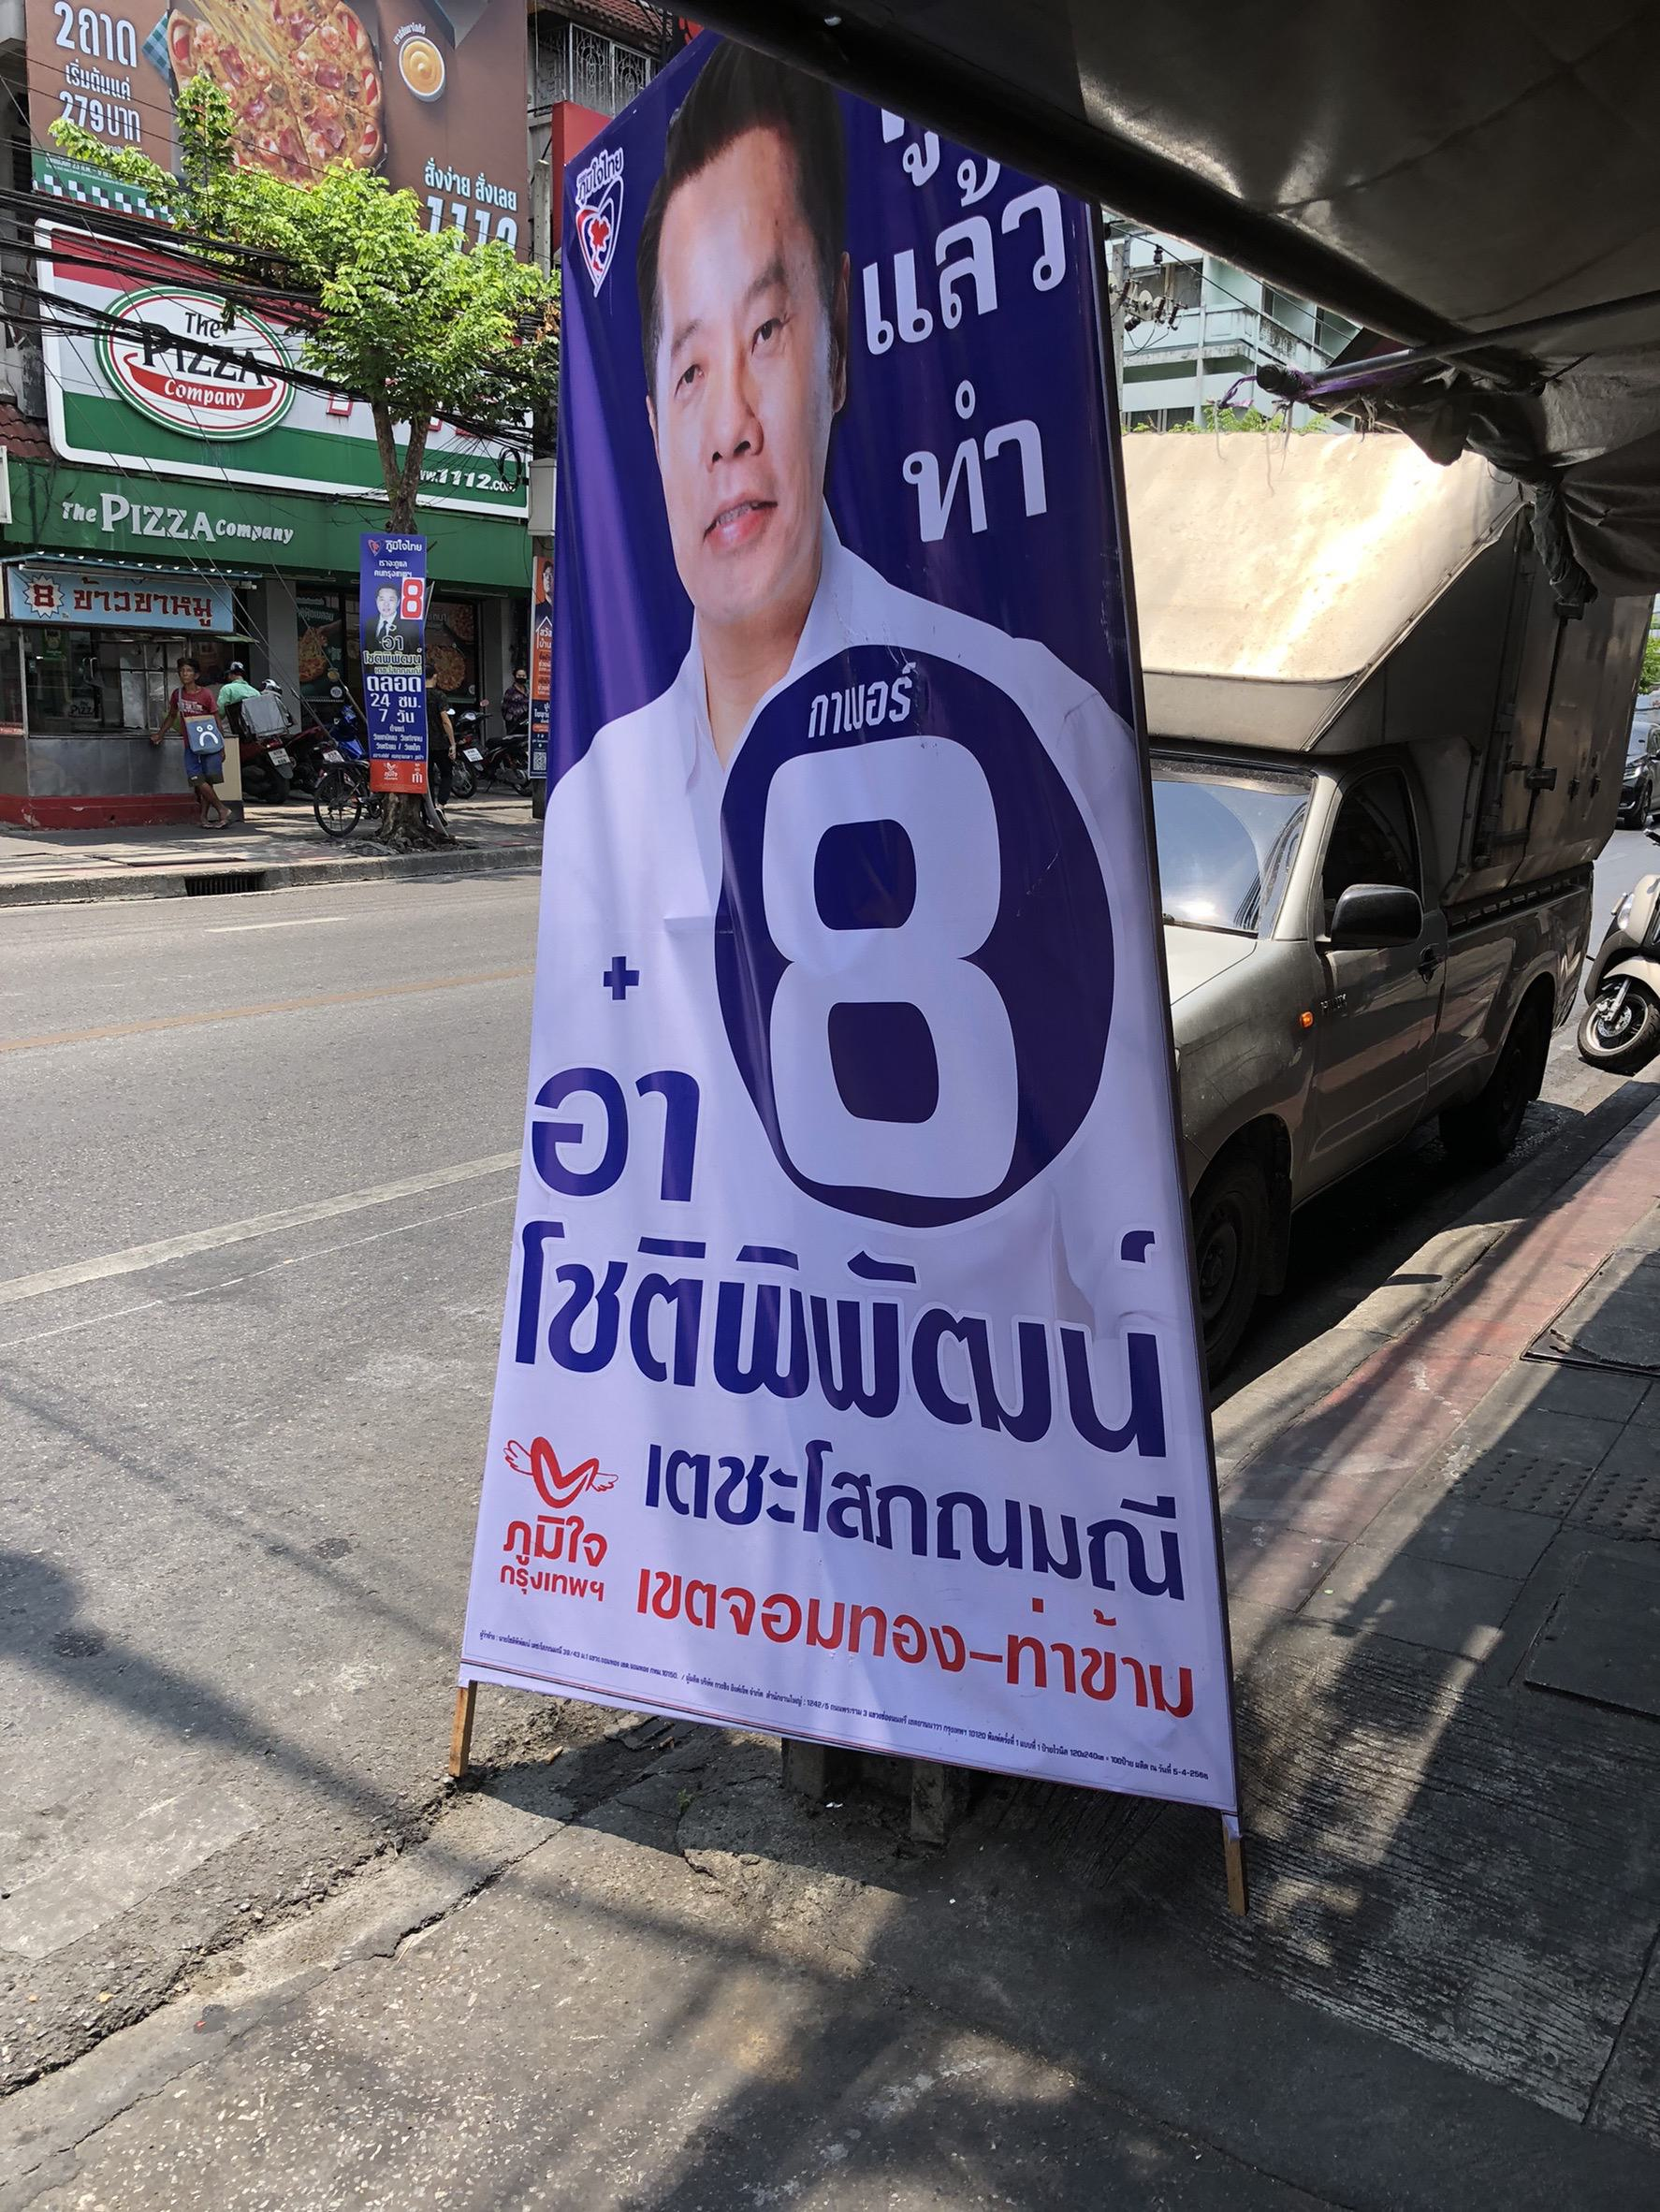Banner: (420, 38, 1259, 1815)
